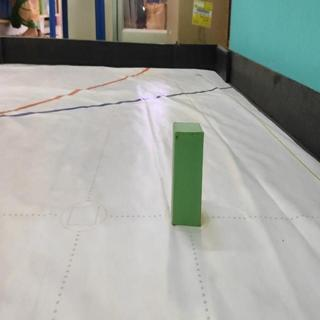greenbox: (171, 119, 206, 228)
